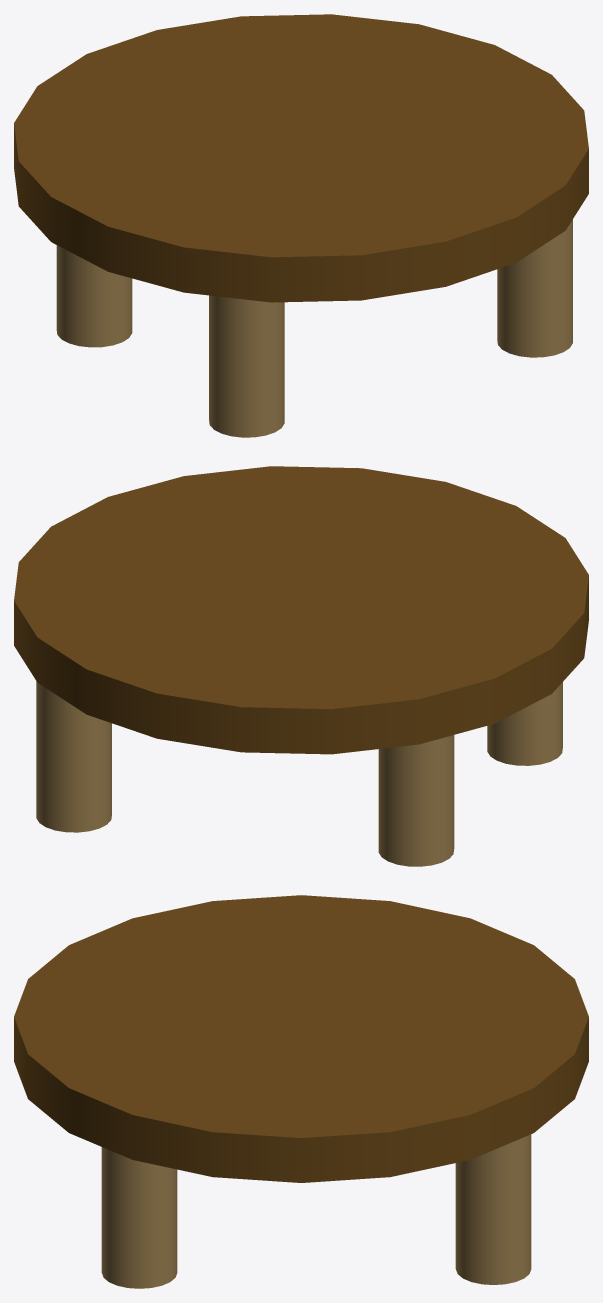
Rendered from ちゃぶ台.fbx.
3 renders of one model, top to bottom at view 1: azimuth 30°, elevation 25°; view 2: azimuth 150°, elevation 25°; view 3: azimuth 270°, elevation 25°, orthographic.
Visible parts, largest first — view 1: pCylinder10; view 2: pCylinder10; view 3: pCylinder10.
Boxes of the visible parts, left/top/right/bottom form: pCylinder10: left=14, top=14, right=588, bottom=437; pCylinder10: left=14, top=466, right=588, bottom=866; pCylinder10: left=14, top=895, right=588, bottom=1288.
Bounding box in the file's own units: 44.88 × 16.28 × 44.88.
